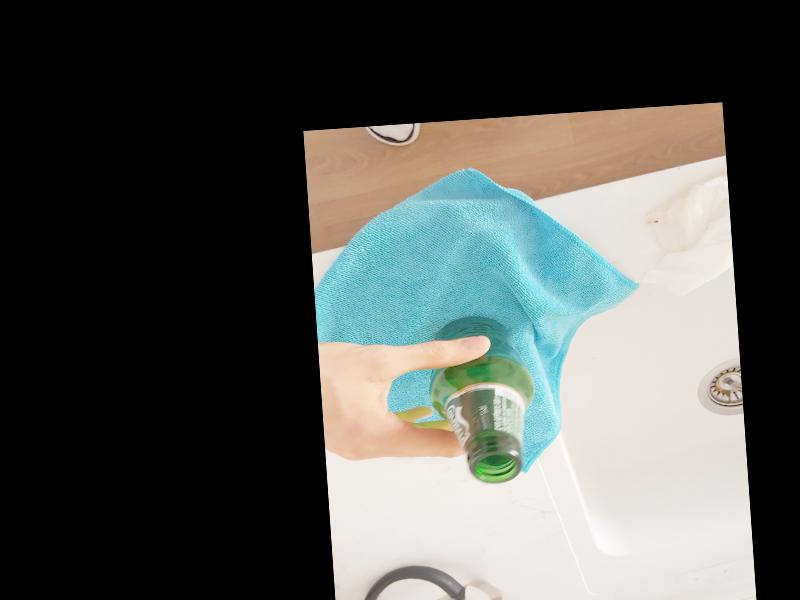Beer: (432, 311, 538, 484)
